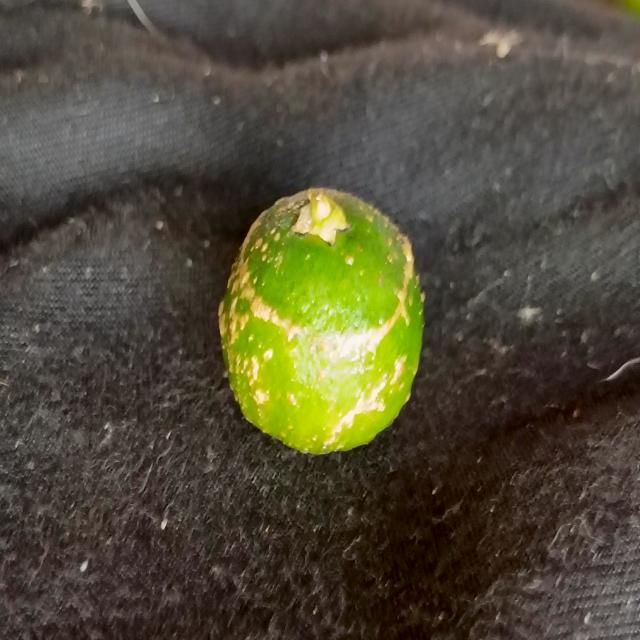scab: (206, 174, 436, 464)
